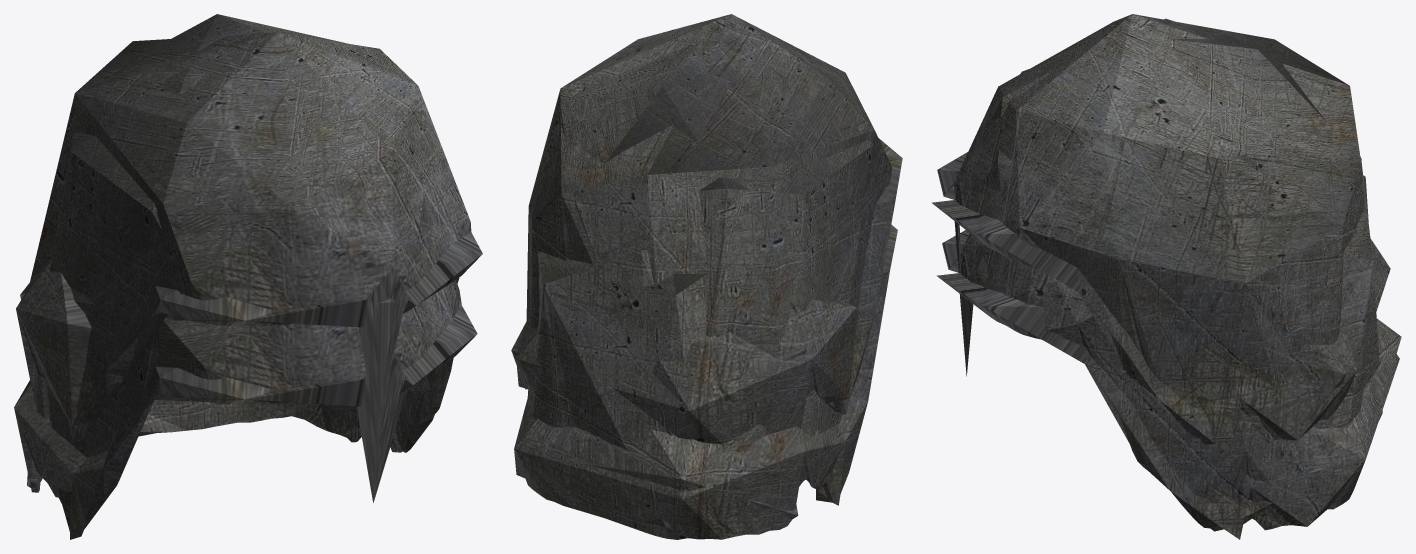
The model's file is helm_templer_b.glb.
3 views of the same model, side by side, from view 1: azimuth 30°, elevation 25°; view 2: azimuth 150°, elevation 25°; view 3: azimuth 270°, elevation 25° (orthographic). The views are drawn at different scales.
Parts seen in each view (by area): view 1: Helm_Templer_B_M, Helm_Templer_B_W; view 2: Helm_Templer_B_M, Helm_Templer_B_W; view 3: Helm_Templer_B_M, Helm_Templer_B_W.
Part boxes in pixels (x1,y1,x2,y2): Helm_Templer_B_M: [16, 14, 482, 442]; Helm_Templer_B_W: [14, 249, 477, 539]; Helm_Templer_B_M: [511, 14, 902, 444]; Helm_Templer_B_W: [514, 224, 897, 539]; Helm_Templer_B_M: [931, 14, 1390, 454]; Helm_Templer_B_W: [936, 166, 1401, 539].
Bounding box in the file's own units: 0.1936 × 0.2596 × 0.2463.
Materials: 1 (1 with a texture image).
